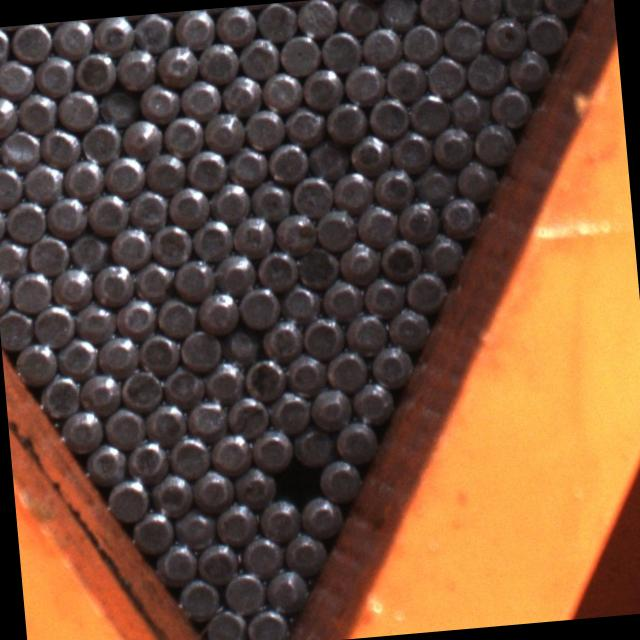tool: (254, 243, 300, 289), (349, 376, 395, 422), (368, 339, 414, 384), (129, 506, 174, 552), (175, 574, 220, 620), (342, 306, 388, 350), (212, 498, 258, 542), (332, 416, 376, 462), (124, 433, 168, 478), (8, 267, 52, 312), (352, 200, 397, 244), (220, 567, 264, 612), (428, 121, 472, 166), (378, 232, 423, 276), (316, 456, 361, 500), (166, 431, 210, 476), (194, 537, 239, 581), (386, 303, 431, 347), (13, 337, 57, 382), (504, 44, 549, 88), (395, 194, 438, 240), (276, 30, 320, 74), (106, 222, 150, 266), (323, 98, 367, 142), (324, 344, 368, 388), (24, 228, 68, 272), (90, 260, 134, 304), (101, 401, 145, 445), (101, 150, 145, 194), (43, 192, 87, 236), (256, 493, 300, 537), (308, 382, 352, 426), (440, 14, 484, 58), (112, 44, 156, 88), (142, 147, 186, 191), (298, 64, 342, 108), (250, 424, 294, 468), (136, 328, 180, 372), (188, 464, 232, 508), (240, 530, 284, 574), (360, 270, 404, 314), (370, 163, 414, 207), (178, 324, 222, 368), (119, 364, 163, 408), (48, 260, 92, 304), (524, 8, 568, 52), (290, 423, 334, 467), (149, 220, 193, 264), (152, 540, 196, 584), (402, 266, 446, 310), (232, 462, 276, 506), (264, 561, 308, 605), (420, 230, 464, 274), (36, 371, 80, 415), (237, 282, 280, 327), (282, 527, 327, 570), (59, 403, 102, 448), (2, 197, 46, 240), (329, 167, 373, 210), (412, 160, 456, 203), (74, 48, 117, 92), (60, 153, 104, 196), (482, 11, 525, 55), (313, 204, 356, 248), (195, 288, 238, 332), (189, 213, 232, 257), (183, 392, 226, 436), (113, 292, 156, 336), (54, 86, 98, 129), (165, 181, 209, 224), (66, 227, 110, 270), (31, 301, 74, 345), (265, 138, 308, 182), (235, 34, 278, 78), (19, 158, 62, 202), (341, 59, 385, 102), (260, 316, 304, 359), (154, 292, 197, 336), (298, 492, 342, 535), (317, 25, 360, 69), (470, 119, 514, 162), (161, 361, 204, 405), (463, 48, 506, 92), (104, 474, 147, 518), (267, 386, 310, 430), (84, 190, 127, 233), (398, 18, 441, 61), (224, 140, 267, 183), (125, 185, 168, 228), (177, 75, 220, 118), (170, 255, 213, 298), (184, 145, 227, 188), (130, 257, 173, 300), (37, 123, 80, 166), (388, 125, 431, 168), (95, 329, 138, 372), (147, 468, 190, 511), (272, 207, 315, 250), (154, 41, 196, 85), (438, 191, 480, 235), (282, 100, 324, 144), (422, 52, 464, 96), (208, 428, 250, 472), (196, 36, 238, 80), (336, 236, 380, 278), (242, 104, 284, 148), (366, 94, 410, 136), (346, 130, 390, 172), (218, 70, 262, 112), (452, 156, 496, 198), (230, 208, 272, 252), (300, 312, 344, 354), (142, 395, 184, 439), (283, 350, 327, 392), (488, 82, 530, 126), (224, 380, 268, 422), (289, 172, 332, 214), (358, 22, 401, 64), (31, 52, 74, 94), (78, 367, 120, 410), (72, 296, 115, 338), (259, 68, 301, 111), (446, 85, 488, 128), (79, 118, 122, 160), (305, 135, 348, 177), (381, 56, 424, 98), (202, 105, 244, 148), (56, 334, 99, 376), (248, 176, 291, 218), (83, 441, 125, 484), (136, 79, 178, 122), (212, 246, 255, 288), (405, 92, 448, 134), (173, 505, 215, 548), (278, 277, 320, 320), (296, 244, 339, 286), (320, 274, 362, 316), (14, 90, 56, 132), (160, 112, 202, 154), (119, 113, 161, 155), (200, 357, 242, 399), (208, 177, 250, 219), (254, 1, 297, 42), (96, 84, 138, 125), (220, 322, 262, 363), (0, 123, 40, 166), (246, 348, 286, 391), (171, 8, 214, 46), (212, 5, 255, 43), (49, 19, 92, 57), (130, 12, 173, 50), (199, 605, 245, 640), (10, 23, 52, 61), (90, 15, 133, 52), (244, 605, 289, 640), (295, 0, 338, 36), (0, 53, 34, 96), (0, 304, 33, 348), (335, 0, 378, 33), (375, 0, 417, 28), (0, 233, 27, 276), (416, 0, 459, 26), (0, 160, 22, 204), (457, 0, 501, 22), (499, 0, 542, 18), (0, 90, 16, 132), (540, 0, 585, 14), (0, 26, 11, 63)
